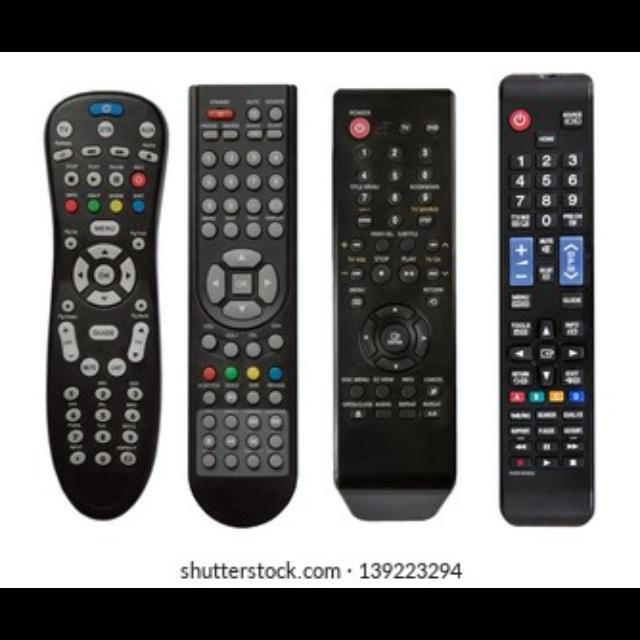TV-Remote-Control: (330, 88, 458, 527), (42, 90, 171, 525), (186, 85, 301, 533), (498, 73, 598, 529)
